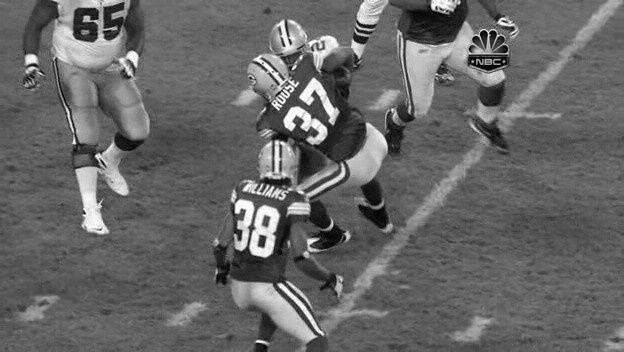person: (274, 29, 308, 72), (273, 29, 307, 72), (275, 29, 309, 72), (274, 28, 308, 71), (274, 30, 308, 73)
target_negative: (77, 112, 177, 189), (414, 242, 509, 283), (191, 302, 551, 307), (578, 21, 589, 104), (489, 280, 579, 290), (504, 269, 514, 352)
